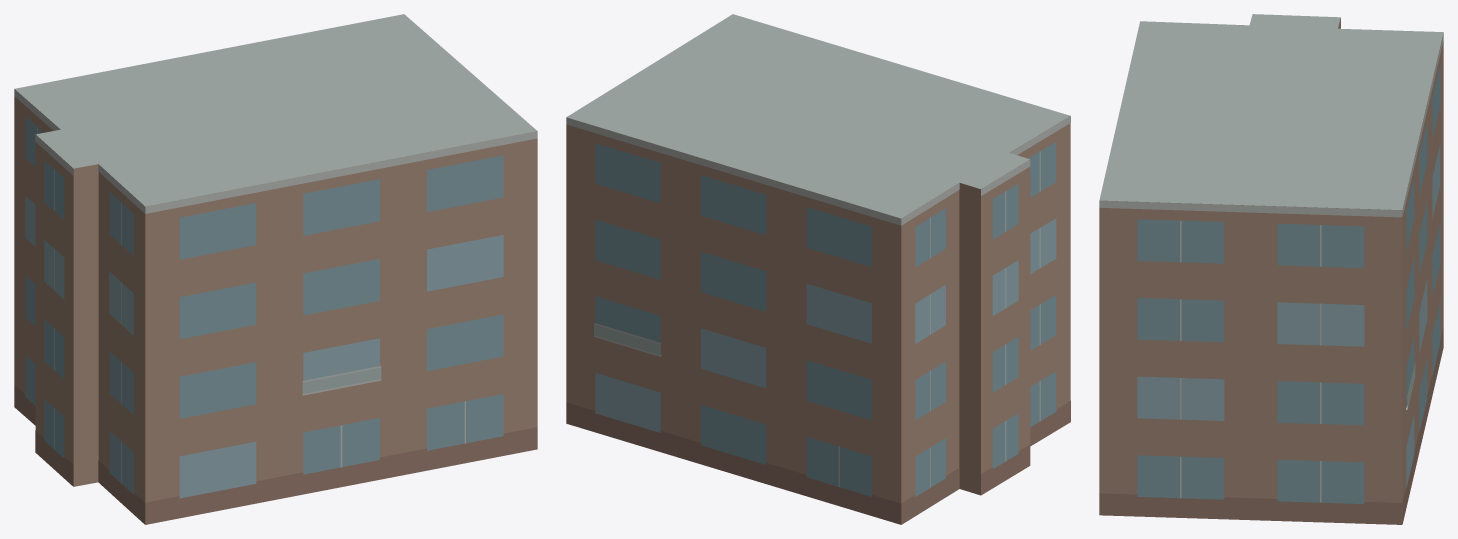
Rendered from survey-upis-32507720.glb.
The picture shows the model from 3 angles, left to right: view 1: azimuth 30°, elevation 25°; view 2: azimuth 150°, elevation 25°; view 3: azimuth 270°, elevation 25°; orthographic projection. The views are drawn at different scales.
Visible parts, largest first — view 1: survey-upis-32507720.tmp; view 2: survey-upis-32507720.tmp; view 3: survey-upis-32507720.tmp.
Boxes of the visible parts, x1,y1,x2,y2 form: survey-upis-32507720.tmp: [14, 14, 537, 524]; survey-upis-32507720.tmp: [566, 14, 1070, 524]; survey-upis-32507720.tmp: [1099, 14, 1443, 524].
Size of the model in its own units: 14.11 by 10.55 by 10.47.
